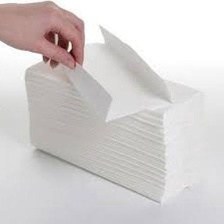tissue: (16, 19, 212, 209)
